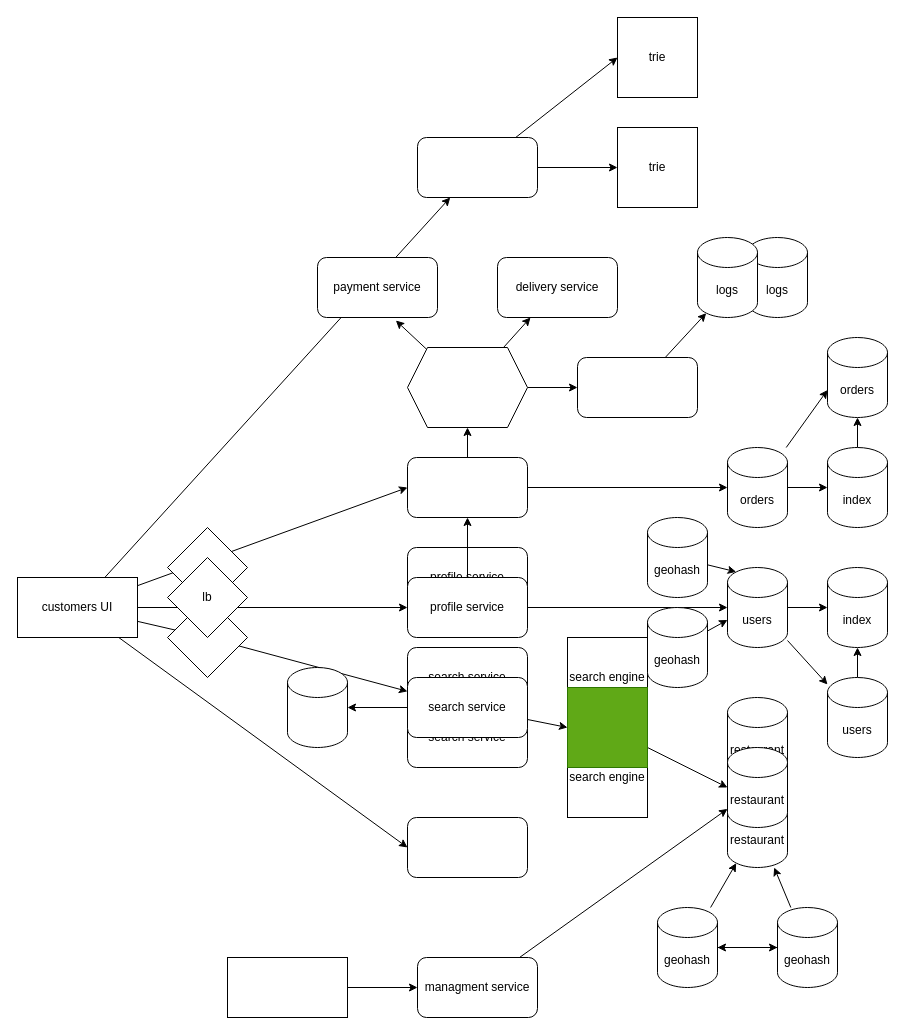
This 905x1035 diagram has some shape labels left out. The shapes that lost their labels are listed below. From the top down, each one's centre as x and y in pixels, then its label:
At (477,167): "autocomplite serivce".
At (467,387): "massage broker".
At (637,387): "logging service".
At (467,487): "checkout service".
At (317,707): "popular restaurants".
At (607,727): "search engine elasticsearch".
At (467,847): "filtering service".
At (287,987): "restaurant UI".
